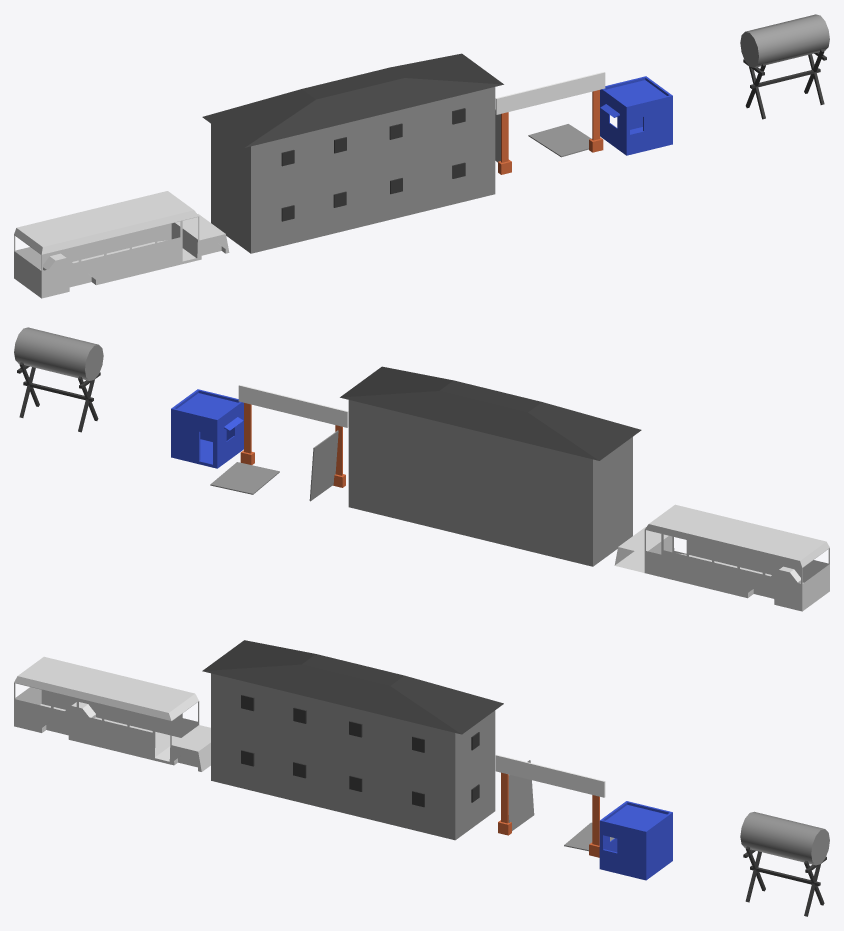
Rendered from junkyard element.fbx.
3 renders of one model, top to bottom at view 1: azimuth 30°, elevation 25°; view 2: azimuth 150°, elevation 25°; view 3: azimuth 330°, elevation 25°, orthographic.
Visible parts, largest first — view 1: Cube.016, Cube.018, Cube.015, Cube.017, Cube.023; view 2: Cube.016, Cube.018, Cube.017, Cube.015, Cube.023; view 3: Cube.016, Cube.018, Cube.015, Cube.017, Cube.023.
Part boxes in pixels (x1,y1,x2,y2): Cube.016: [202, 53, 503, 253]; Cube.018: [14, 191, 229, 298]; Cube.015: [600, 76, 672, 155]; Cube.017: [495, 72, 605, 174]; Cube.023: [740, 14, 829, 119]; Cube.016: [340, 366, 641, 566]; Cube.018: [614, 504, 829, 611]; Cube.017: [210, 385, 348, 501]; Cube.015: [171, 389, 243, 468]; Cube.023: [14, 327, 103, 432]; Cube.016: [202, 640, 503, 840]; Cube.018: [14, 656, 210, 771]; Cube.015: [599, 801, 672, 880]; Cube.017: [495, 754, 614, 857]; Cube.023: [740, 811, 829, 916].
Bounding box in the file's own units: 22723 × 3516 × 2671.
